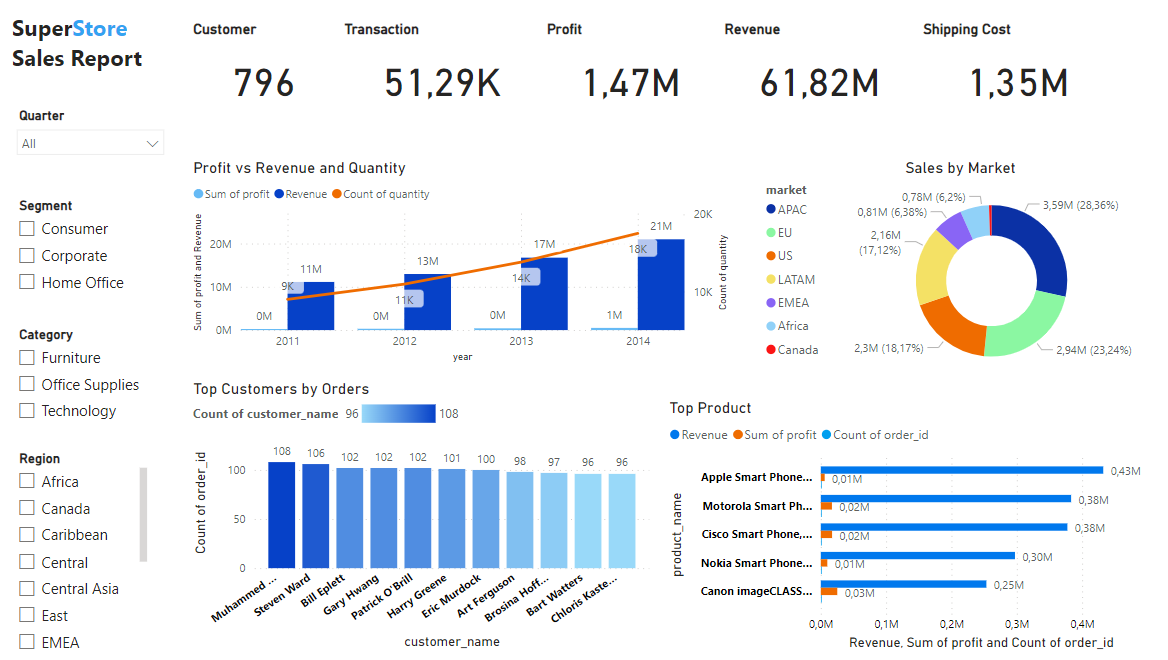

The dashboard page shown, as its layout file describes it:
{"tool":"powerbi","page":{"name":"Page 1","canvas":[1280,720],"ordinal":0},"visuals":[{"type":"card","title":"Profit","fields":{"Values":["Orders.profit"]},"box":[596.5,24.4,190.7,107.6],"z":0},{"type":"card","title":"Transaction ","fields":{"Values":["Orders.order_id"]},"box":[376.5,24.4,220,107.6],"z":1000},{"type":"slicer","fields":{"Values":["Orders.category"]},"box":[17.1,349.6,156.5,123.5],"z":2000},{"type":"slicer","fields":{"Values":["Orders.region"]},"box":[17.1,484.1,156.5,224.9],"z":3000},{"type":"slicer","fields":{"Values":["Orders.segment"]},"box":[17.1,211.5,156.5,129.6],"z":4000},{"type":"slicer","title":"Sales, Sum of profit and Sum of shipping_cost by year","fields":{"Values":["Orders.order_date.Variation.Date Hierarchy.Quarter"]},"box":[17.1,113.7,179.7,75.8],"z":5000},{"type":"donutChart","title":"Sales by Market","fields":{"Category":["Orders.market"],"Y":["Orders.sales"]},"box":[832.5,173.6,431.5,246.9],"z":6000},{"type":"card","title":"Revenue","fields":{"Values":["Orders.Revenue"]},"box":[787.2,24.4,215.1,107.6],"z":7000},{"type":"textbox","box":[17.1,11,167.5,85.6],"z":8000},{"type":"clusteredBarChart","title":"Top Product","fields":{"Y":["Orders.Revenue","Orders.profit","Orders.order_id"],"Category":["Orders.product_name"]},"box":[729.8,432.7,534.2,276.3],"z":9000},{"type":"clusteredColumnChart","title":"Top Customers by Orders","fields":{"Category":["Orders.customer_name"],"Y":["Orders.order_id"]},"box":[213.9,412,503.6,297],"z":10000},{"type":"card","title":"Shipping Cost","fields":{"Values":["Orders.shipping_cost"]},"box":[1002.4,24.4,215.1,107.6],"z":11000},{"type":"lineClusteredColumnComboChart","title":"Profit vs Revenue and Quantity ","fields":{"Y":["Orders.profit","Orders.Revenue"],"Category":["Orders.year"],"Y2":["Orders.quantity"]},"box":[213.9,173.6,589.2,226.1],"z":12000},{"type":"card","title":"Customer","fields":{"Values":["Orders.customer_name"]},"box":[213.9,24.4,162.6,107.6],"z":12001}]}

Visuals, with their boxes in screenshot pixels (x1, y1, x2, y2), scaled from the page's 1280x720 canvas onto the 1168x660 screenshot:
"Profit" card: detection(544, 22, 718, 121)
"Transaction " card: detection(344, 22, 544, 121)
slicer - Orders.category: detection(16, 320, 158, 434)
slicer - Orders.region: detection(16, 444, 158, 650)
slicer - Orders.segment: detection(16, 194, 158, 313)
"Sales, Sum of profit and Sum of shipping_cost by year" slicer: detection(16, 104, 180, 174)
"Sales by Market" donutChart: detection(760, 159, 1153, 385)
"Revenue" card: detection(718, 22, 915, 121)
textbox: detection(16, 10, 168, 89)
"Top Product" clusteredBarChart: detection(666, 397, 1153, 650)
"Top Customers by Orders" clusteredColumnChart: detection(195, 378, 655, 650)
"Shipping Cost" card: detection(915, 22, 1111, 121)
"Profit vs Revenue and Quantity " lineClusteredColumnComboChart: detection(195, 159, 733, 366)
"Customer" card: detection(195, 22, 344, 121)
